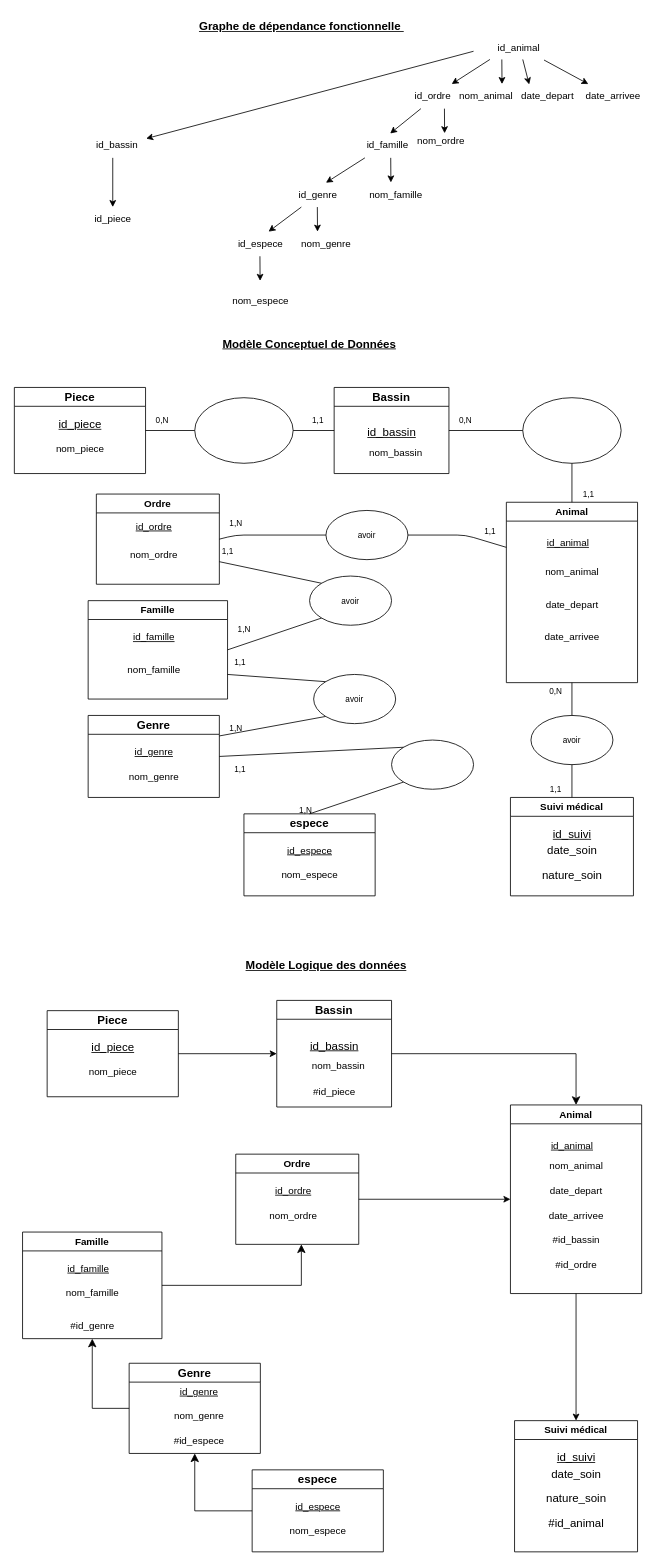
The diagram is 664 pixels wide and 1566 high, and some of its shapes have lost their labels. Here are the shapes that lost their labels. From the top down, the centre of each, then its label:
[243,430]: CONCERNE
[571,430]: dispose
[432,764]: appartenir
